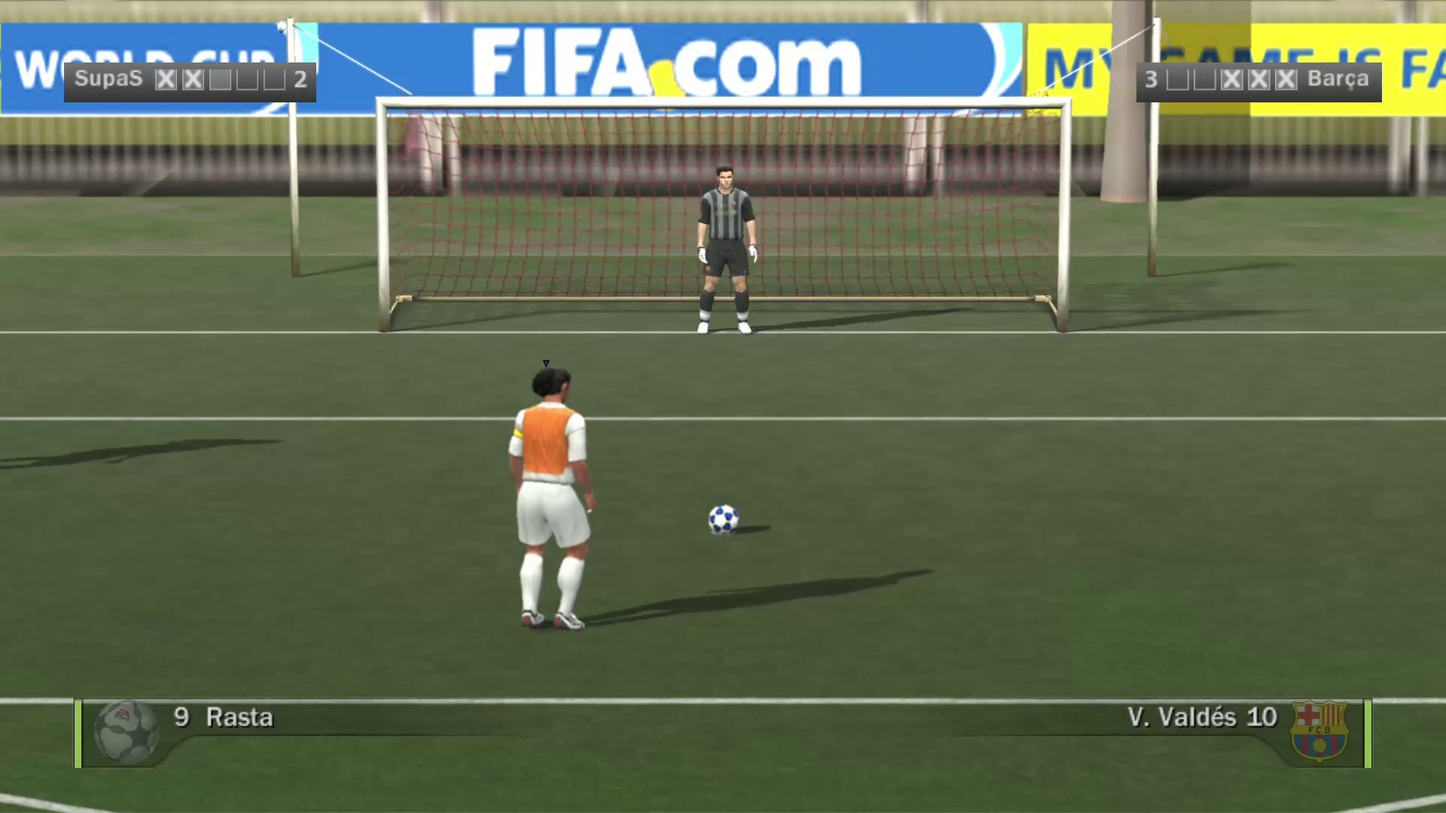ball: (692, 483, 721, 515)
goal_post: (46, 0, 721, 217)
keeper: (666, 72, 729, 249)
kicker: (465, 232, 553, 497)
